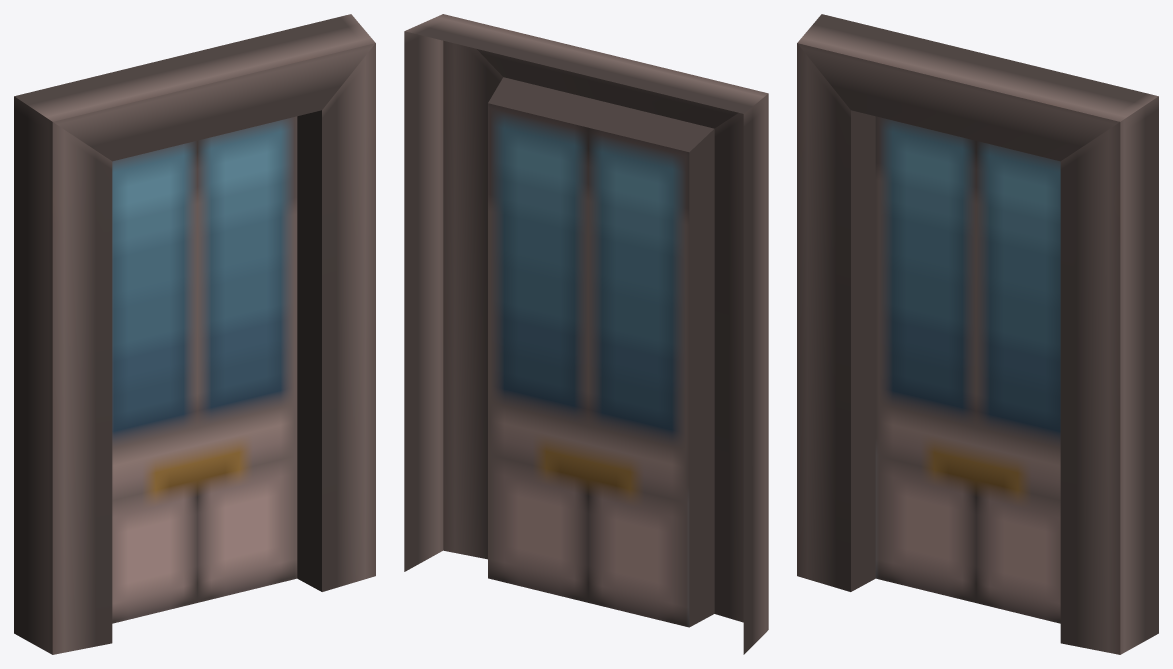
File: door_v3_001.fbx
The picture shows the model from 3 angles, left to right: view 1: azimuth 30°, elevation 25°; view 2: azimuth 150°, elevation 25°; view 3: azimuth 330°, elevation 25°; orthographic projection.
Visible parts, largest first — view 1: door_v3_001; view 2: door_v3_001; view 3: door_v3_001.
Part boxes in pixels (x1,y1,x2,y2): door_v3_001: (14, 14, 375, 654); door_v3_001: (404, 14, 768, 654); door_v3_001: (797, 14, 1158, 654).
Bounding box in the file's own units: 118 × 179 × 20.9.
